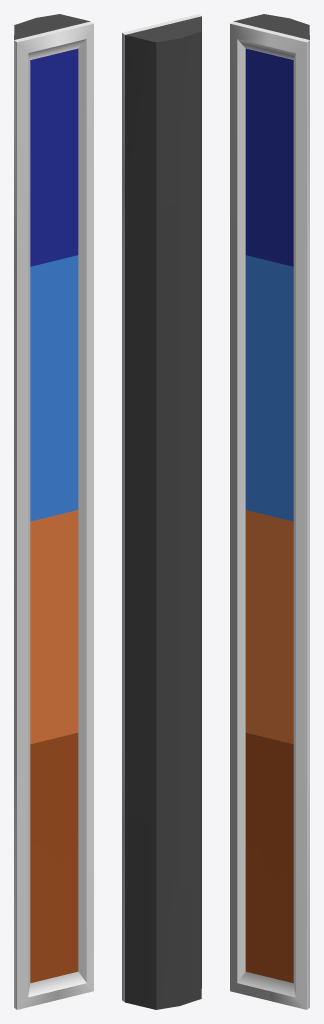
The model's file is BaseAltCaras.obj.
3 views of the same model, side by side, from view 1: azimuth 30°, elevation 25°; view 2: azimuth 210°, elevation 25°; view 3: azimuth 330°, elevation 25° (orthographic).
Visible parts, largest first — view 1: BaseAltitud:pCube1; view 2: BaseAltitud:pCube1; view 3: BaseAltitud:pCube1.
Boxes of the visible parts, bbox=[...] form: BaseAltitud:pCube1: bbox=[14, 14, 93, 1009]; BaseAltitud:pCube1: bbox=[122, 14, 201, 1009]; BaseAltitud:pCube1: bbox=[230, 14, 309, 1009].
Size of the model in its own units: 1 by 12.04 by 0.502.
